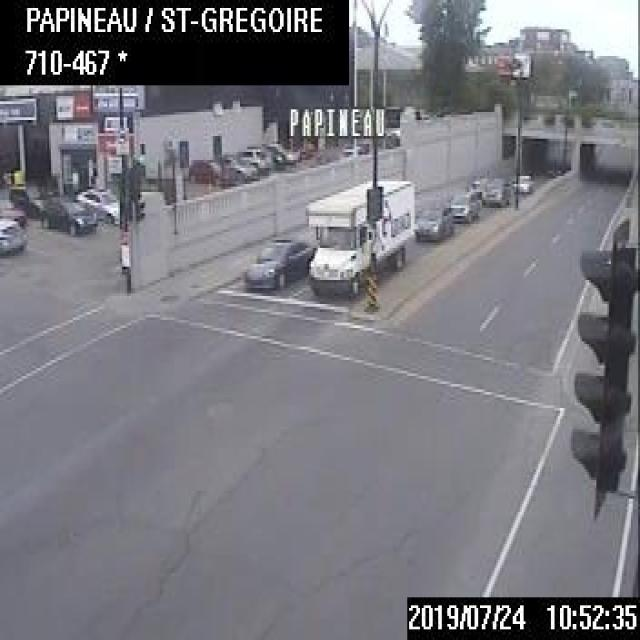vehicle: (302, 175, 416, 298), (240, 230, 314, 292), (37, 192, 95, 235), (413, 199, 455, 242), (74, 184, 118, 224), (186, 154, 233, 188), (221, 150, 259, 184), (446, 186, 479, 222), (8, 182, 43, 214), (477, 173, 509, 206), (236, 146, 270, 173), (0, 217, 24, 252), (269, 140, 298, 165), (255, 143, 282, 168), (0, 198, 24, 222), (511, 171, 535, 195)
